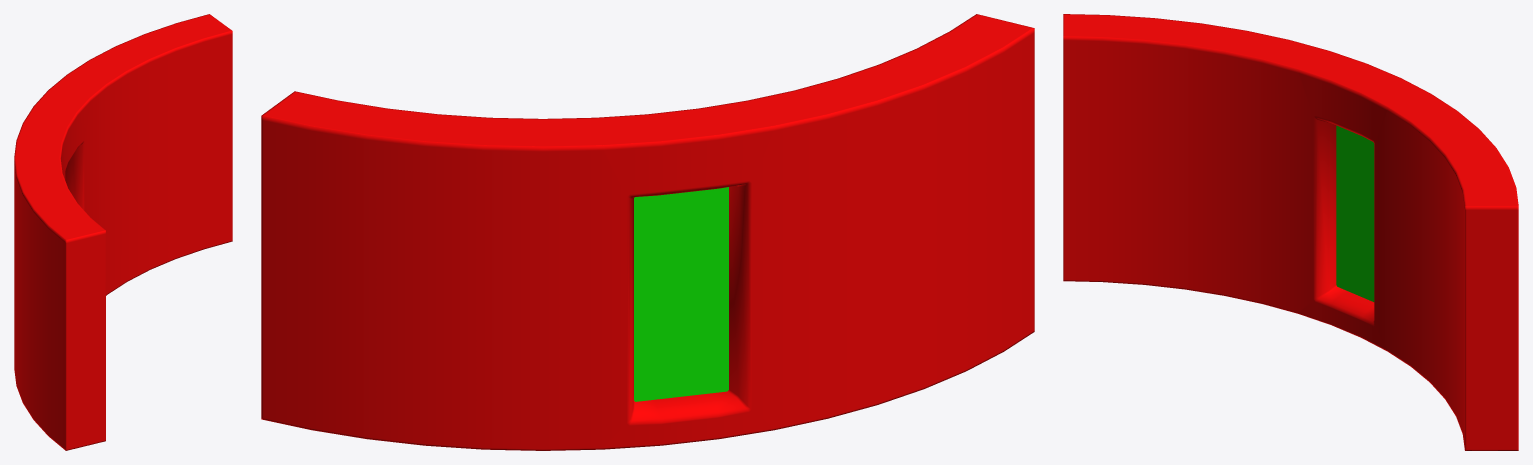
Rendered from Dungeon_CurvedWindowWall.fbx.
3 renders of one model, left to right at view 1: azimuth 30°, elevation 25°; view 2: azimuth 150°, elevation 25°; view 3: azimuth 270°, elevation 25°, orthographic. The views are drawn at different scales.
Visible parts, largest first — view 1: ThinWall_WithWindow; view 2: ThinWall_WithWindow; view 3: ThinWall_WithWindow.
Boxes of the visible parts, <box> form: ThinWall_WithWindow: <box>14,14,232,450</box>; ThinWall_WithWindow: <box>261,14,1034,450</box>; ThinWall_WithWindow: <box>1063,14,1518,450</box>.
Bounding box in the file's own units: 422 × 250 × 422.
